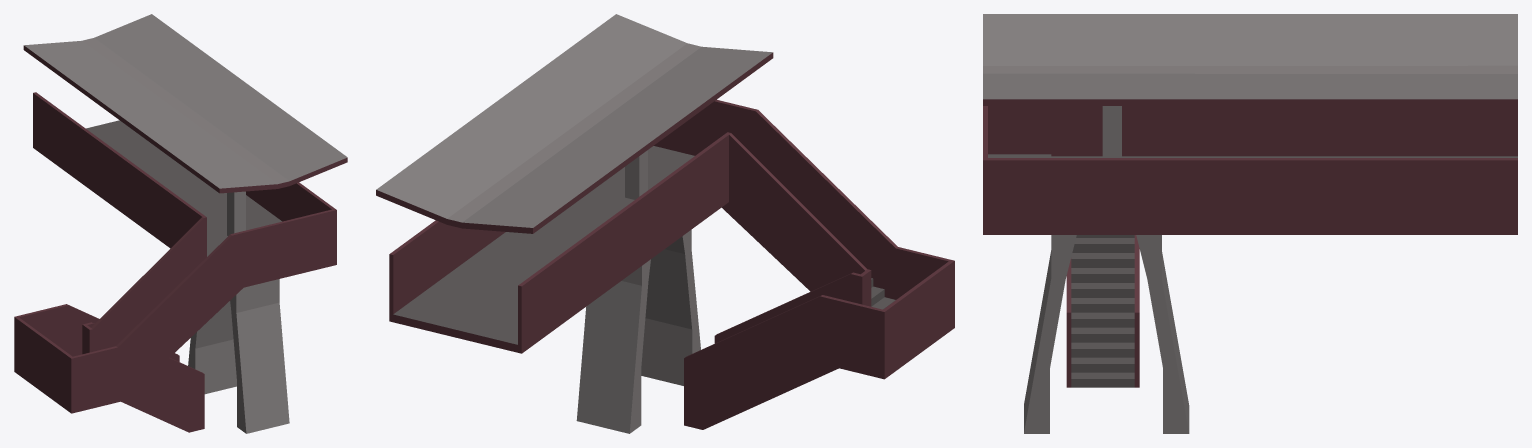
File: buildings-trainstation-oberpass-end.glb
The picture shows the model from 3 angles, left to right: view 1: azimuth 30°, elevation 25°; view 2: azimuth 150°, elevation 25°; view 3: azimuth 270°, elevation 25°; orthographic projection. The views are drawn at different scales.
Parts seen in each view (by area): view 1: trainstation-oberpass-end; view 2: trainstation-oberpass-end; view 3: trainstation-oberpass-end.
Boxes of the visible parts, x1,y1,x2,y2 form: trainstation-oberpass-end: (14,14,347,433); trainstation-oberpass-end: (376,14,954,433); trainstation-oberpass-end: (983,14,1517,433).
Bounding box in the file's own units: 8.95 × 8.25 × 10.99.
